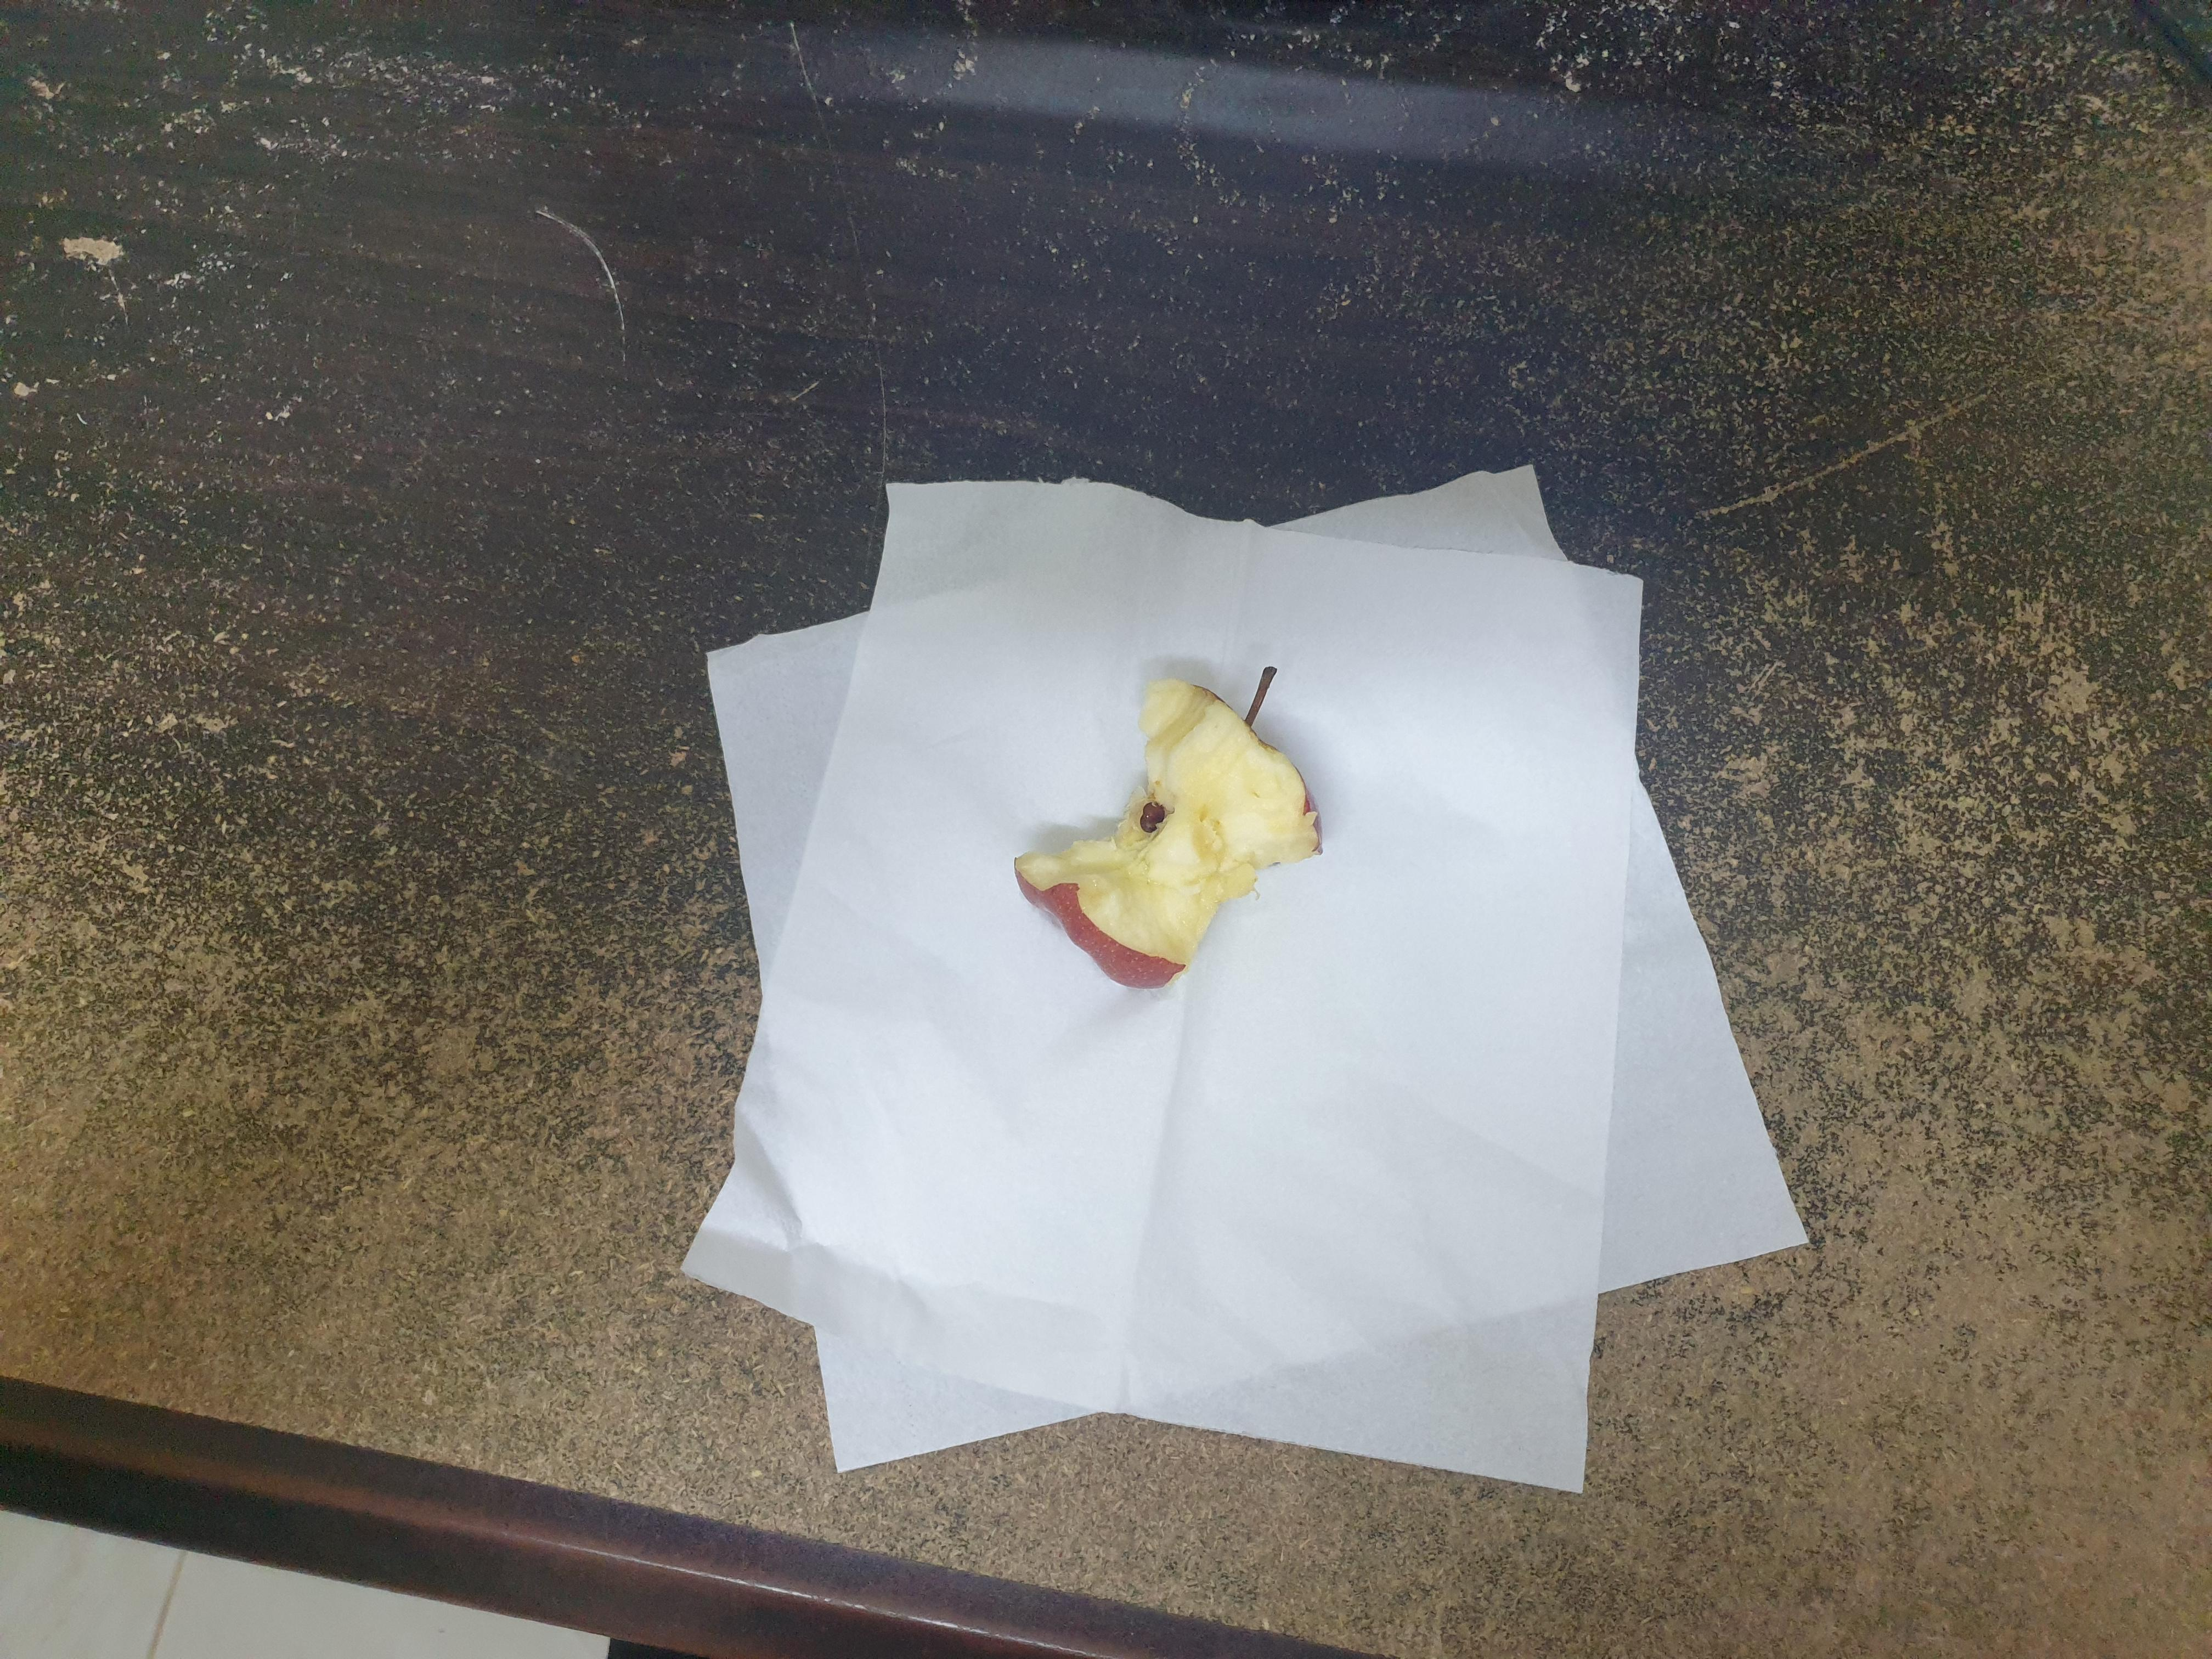Apple: (995, 640, 1357, 1026)
